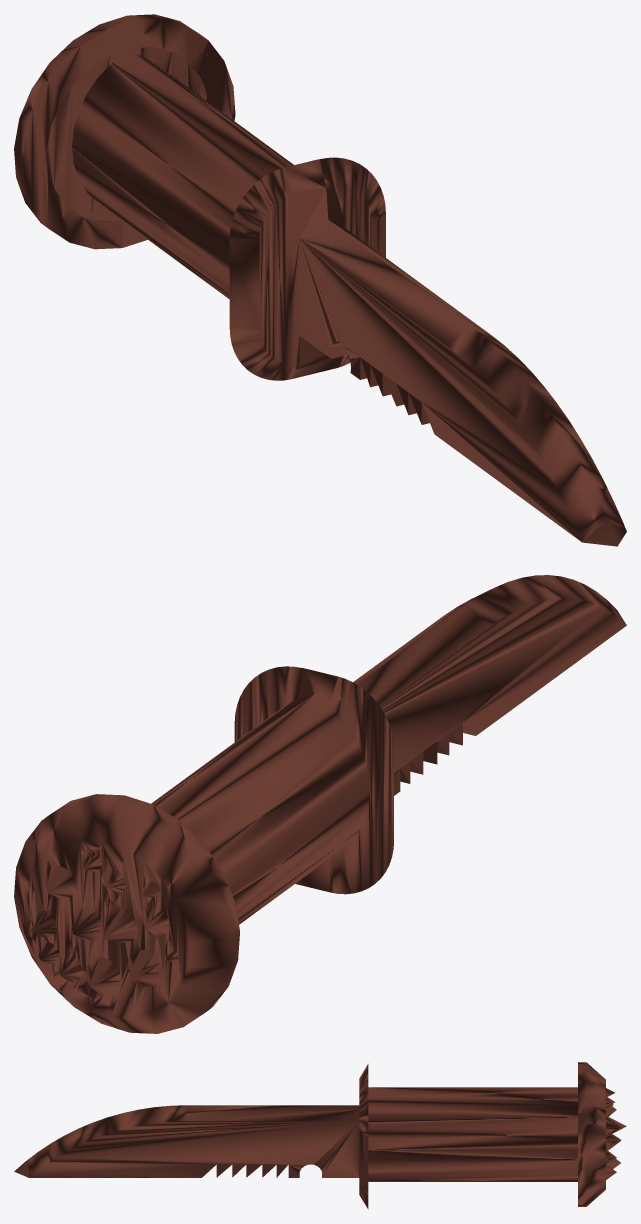
Rendered from model_align.obj.
3 renders of one model, top to bottom at view 1: azimuth 30°, elevation 25°; view 2: azimuth 150°, elevation 25°; view 3: azimuth 270°, elevation 25°, orthographic. The views are drawn at different scales.
Size of the model in its own units: 0.0542 by 0.0542 by 0.23.
